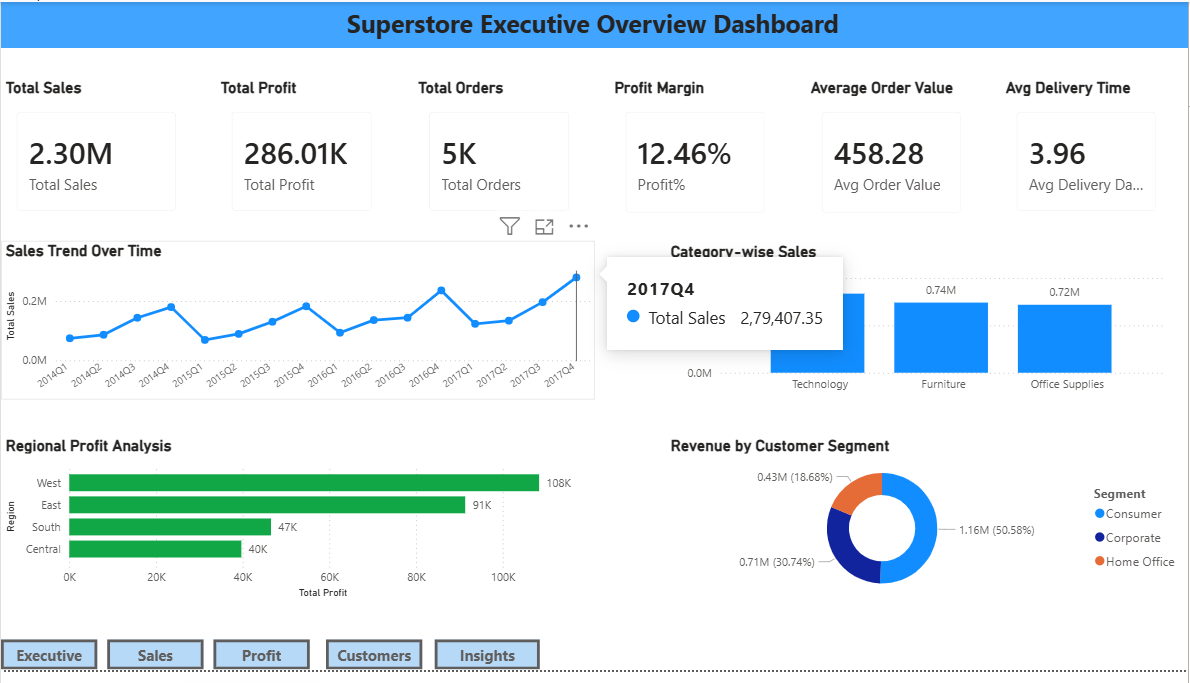

Layout of this report page (visuals, bound fields, positions):
{"tool":"powerbi","page":{"name":"Executive Overview","canvas":[1280,720],"ordinal":0},"visuals":[{"type":"cardVisual","title":"Total Sales","fields":{"Data":["Orders.Total Sales"]},"box":[0,82.2,206.2,160.4],"z":0},{"type":"cardVisual","title":"Total Profit","fields":{"Data":["Orders.Total Profit"]},"box":[232.3,82.2,186,160.4],"z":1000},{"type":"cardVisual","title":"Total Orders","fields":{"Data":["Orders.Total Orders"]},"box":[444.5,82.2,186,160.4],"z":2000},{"type":"cardVisual","title":"Profit Margin","fields":{"Data":["Orders.Profit%"]},"box":[656.6,82.2,184.6,163.1],"z":3000},{"type":"cardVisual","title":"Average Order Value","fields":{"Data":["Orders.Avg Order Value"]},"box":[867.4,82.2,184.6,163.1],"z":4000},{"type":"cardVisual","title":"Avg Delivery Time","fields":{"Data":["Orders.Avg Delivery Days"]},"box":[1078.1,82.2,184.6,160.4],"z":5000},{"type":"lineChart","title":"Sales Trend Over Time","fields":{"Y":["Orders.Total Sales"],"Category":["Orders.Year-Quarter"]},"box":[0,257.4,640.1,171.2],"z":6000},{"type":"clusteredColumnChart","title":"Category-wise Sales","fields":{"Category":["Orders.Category"],"Y":["Orders.Total Sales"]},"box":[717,258.8,544.5,171.2],"z":7000},{"type":"barChart","title":"Regional Profit Analysis","fields":{"Category":["Orders.Region"],"Y":["Orders.Total Profit"]},"box":[0,467.6,640.1,180.6],"z":8000},{"type":"donutChart","title":" Revenue by Customer Segment","fields":{"Category":["Orders.Segment"],"Y":["Orders.Total Sales"]},"box":[717,467.6,563.3,180.6],"z":9000},{"type":"textbox","box":[0,0,1280,49.9],"z":10000},{"type":"actionButton","box":[0,687.3,103.8,32.3],"z":11000},{"type":"actionButton","box":[114.6,687.3,103.8,32.3],"z":12000},{"type":"actionButton","box":[229.1,687.3,103.8,32.3],"z":13000},{"type":"actionButton","box":[350.4,687.3,103.8,32.3],"z":14000},{"type":"actionButton","box":[467.6,687.3,113.2,32.3],"z":15000}]}

Visuals, with their boxes in screenshot pixels (x1, y1, x2, y2), scaled from the page's 1280x720 canvas onto the 1190x683 screenshot:
"Total Sales" cardVisual: 0, 78, 192, 230
"Total Profit" cardVisual: 216, 78, 389, 230
"Total Orders" cardVisual: 413, 78, 586, 230
"Profit Margin" cardVisual: 610, 78, 782, 233
"Average Order Value" cardVisual: 806, 78, 978, 233
"Avg Delivery Time" cardVisual: 1002, 78, 1174, 230
"Sales Trend Over Time" lineChart: 0, 244, 595, 407
"Category-wise Sales" clusteredColumnChart: 667, 246, 1173, 408
"Regional Profit Analysis" barChart: 0, 444, 595, 615
" Revenue by Customer Segment" donutChart: 667, 444, 1189, 615
textbox: 0, 0, 1189, 47
actionButton: 0, 652, 97, 682
actionButton: 107, 652, 203, 682
actionButton: 213, 652, 309, 682
actionButton: 326, 652, 422, 682
actionButton: 435, 652, 540, 682
